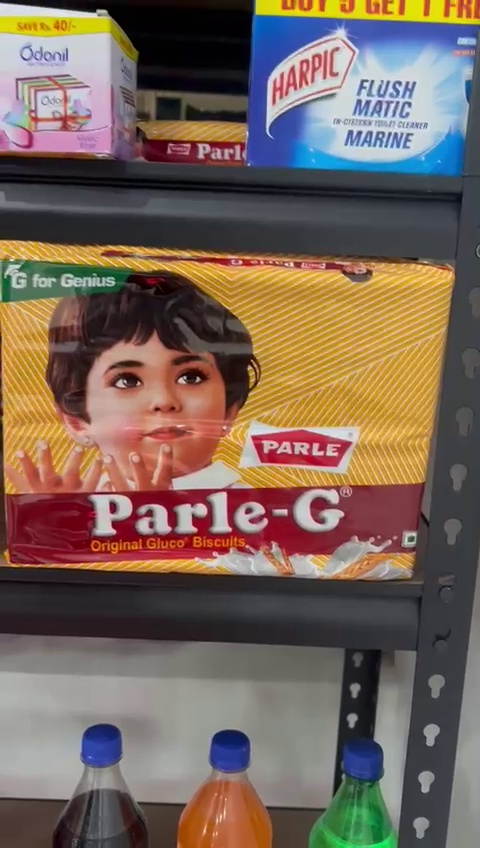Harpic: (252, 3, 478, 169)
Odonil: (0, 6, 135, 161)
Parle-G: (0, 238, 441, 582)
